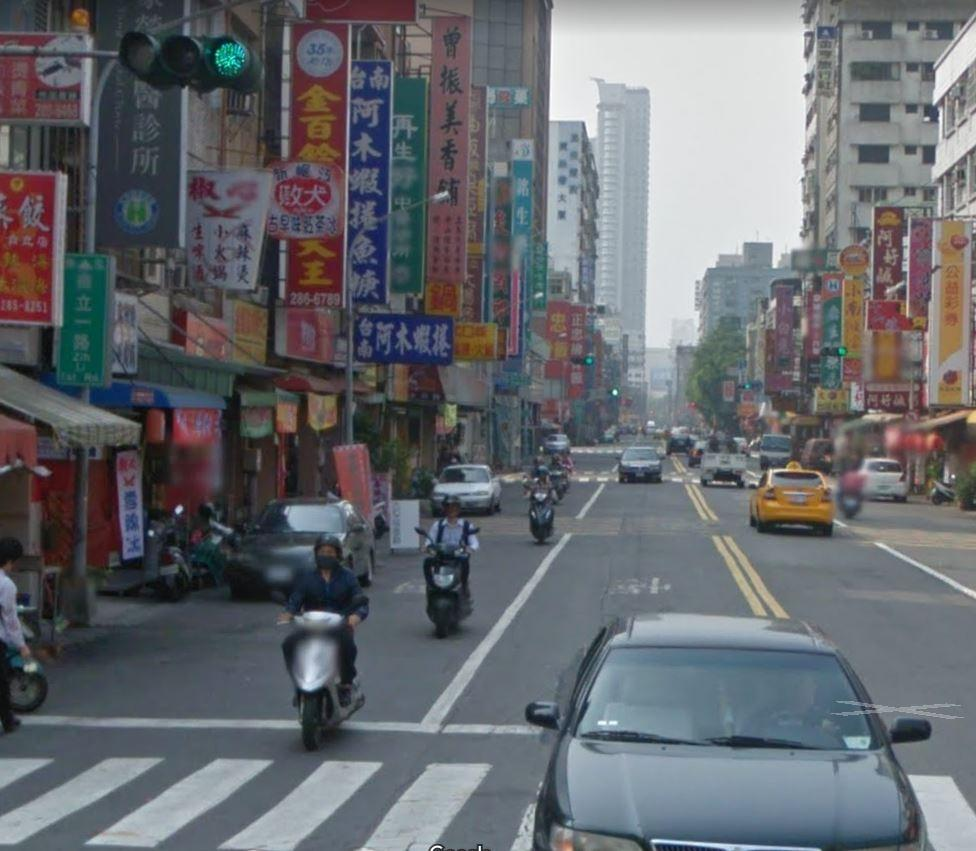car: (512, 600, 934, 851), (227, 496, 372, 609), (746, 462, 836, 537), (435, 462, 500, 521), (849, 456, 920, 506), (616, 438, 665, 481)
green_traffic_light: (112, 24, 268, 103)
motorcycle: (272, 583, 371, 749), (409, 519, 477, 638), (521, 481, 557, 545)
